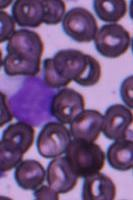L: (6, 74, 55, 126)
